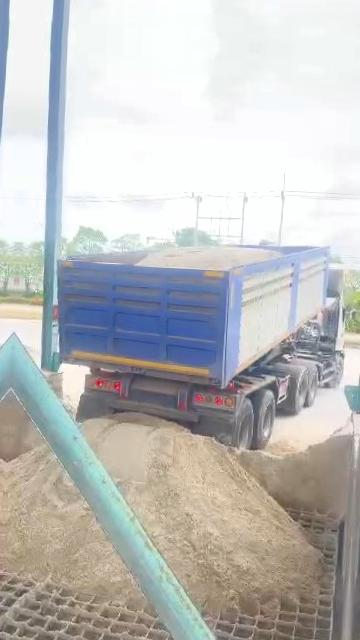sand: (82, 414, 318, 613), (2, 446, 139, 600), (234, 431, 352, 519), (138, 246, 280, 270), (7, 390, 42, 461), (269, 439, 306, 454)
